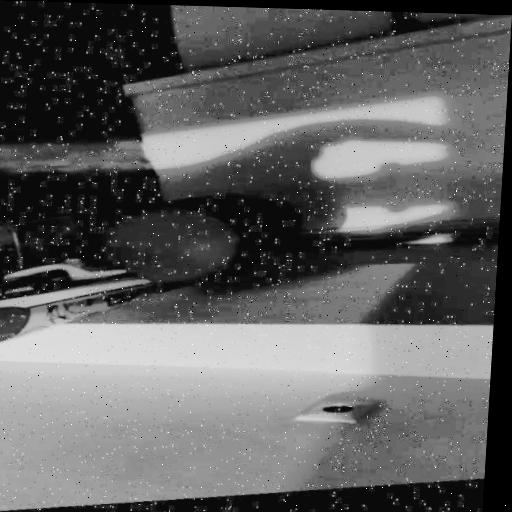balloon: (97, 205, 240, 298)
